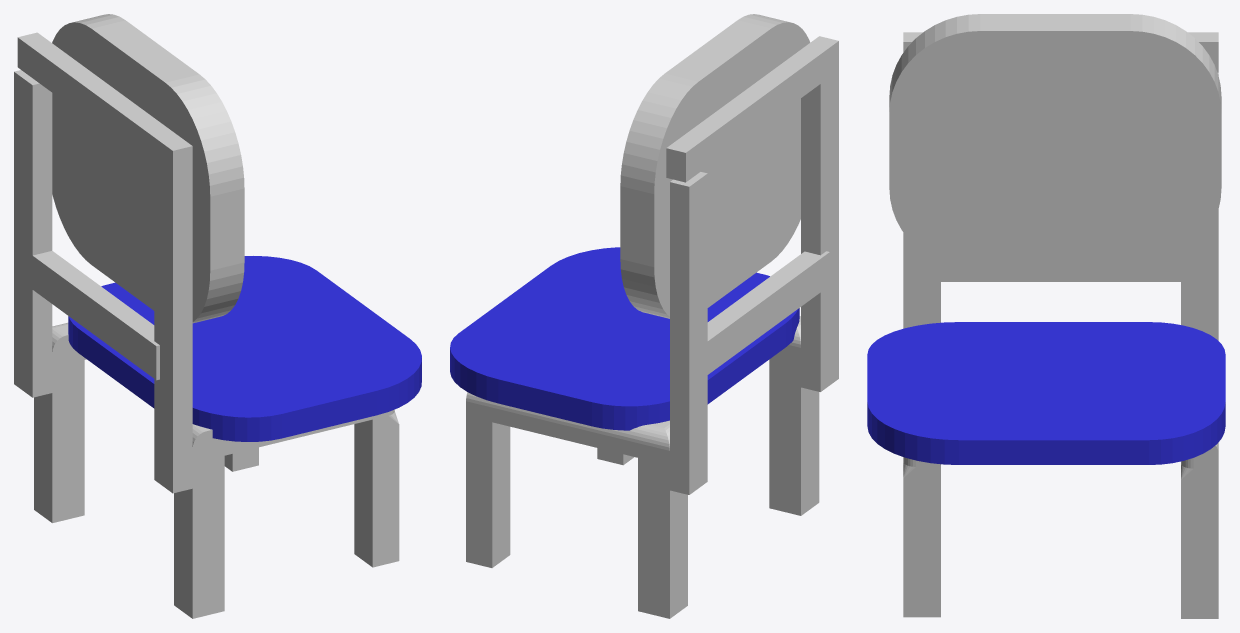
The model's file is sillaaula2.fbx.
3 renders of one model, left to right at view 1: azimuth 30°, elevation 25°; view 2: azimuth 150°, elevation 25°; view 3: azimuth 270°, elevation 25°, orthographic. The views are drawn at different scales.
Parts seen in each view (by area): view 1: Cube.003, Cube.004, Cube.002, Cube; view 2: Cube, Cube.004, Cube.002, Cube.003; view 3: Cube.004, Cube.002, Cube, Cube.003.
Part boxes in pixels (bbox=[...]): Cube.003: bbox=[17, 32, 399, 618]; Cube.004: bbox=[52, 14, 244, 323]; Cube.002: bbox=[68, 256, 421, 441]; Cube: bbox=[14, 70, 258, 523]; Cube: bbox=[466, 172, 829, 618]; Cube.004: bbox=[620, 14, 810, 318]; Cube.002: bbox=[450, 247, 799, 430]; Cube.003: bbox=[597, 36, 838, 515]; Cube.004: bbox=[889, 14, 1221, 270]; Cube.002: bbox=[867, 322, 1225, 464]; Cube: bbox=[941, 72, 1218, 618]; Cube.003: bbox=[903, 32, 1218, 617].
Size of the model in its own units: 823 by 1492 by 936.
